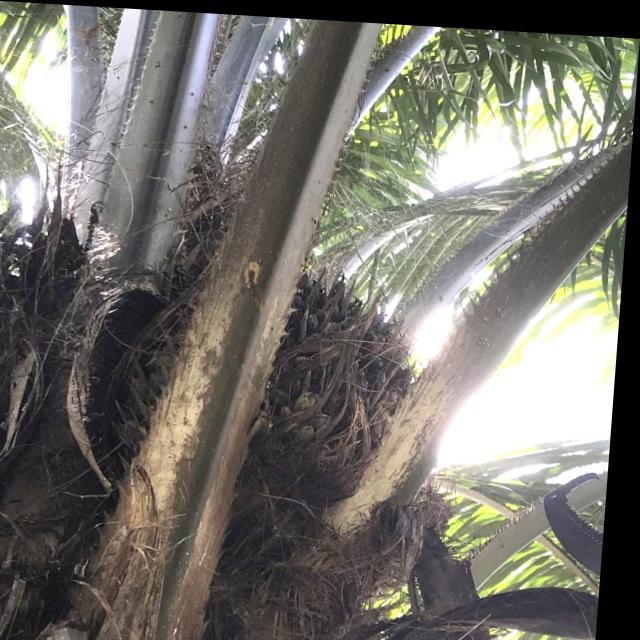almost: (231, 254, 442, 547)
